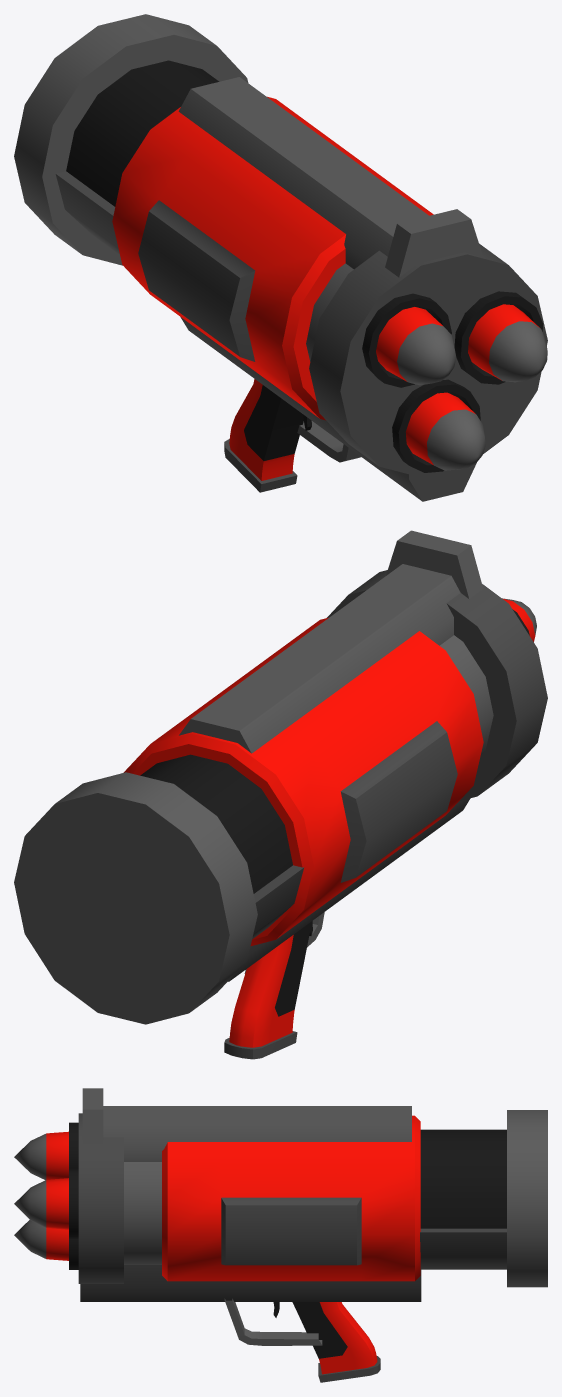
The model's file is rockeLauncher-food.fbx.
3 renders of one model, top to bottom at view 1: azimuth 30°, elevation 25°; view 2: azimuth 150°, elevation 25°; view 3: azimuth 270°, elevation 25°, orthographic. The views are drawn at different scales.
Parts seen in each view (by area): view 1: rockeLauncher-food; view 2: rockeLauncher-food; view 3: rockeLauncher-food.
Boxes of the visible parts, box(x1,y1,x2,y2) form: rockeLauncher-food: box(14, 14, 547, 501); rockeLauncher-food: box(14, 530, 547, 1059); rockeLauncher-food: box(14, 1088, 547, 1382).
Size of the model in its own units: 0.33 by 0.5254 by 0.9161.
